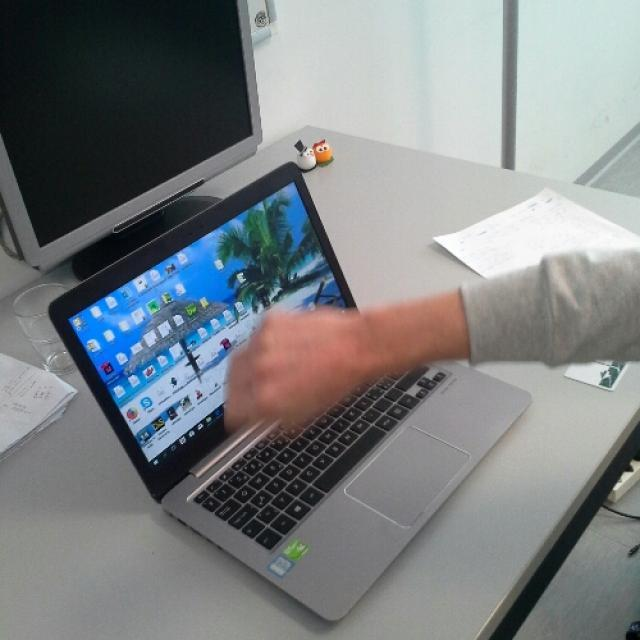fist: (221, 308, 366, 430)
